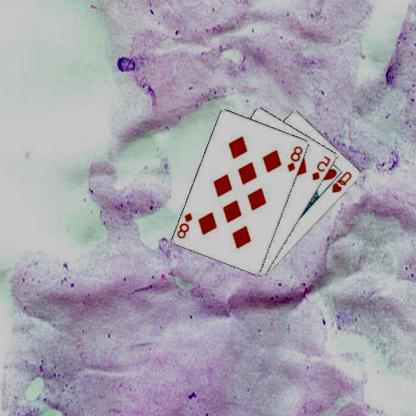5D: (311, 153, 334, 182)
8D: (286, 143, 306, 173), (176, 210, 196, 240)
QH: (331, 169, 355, 194)
